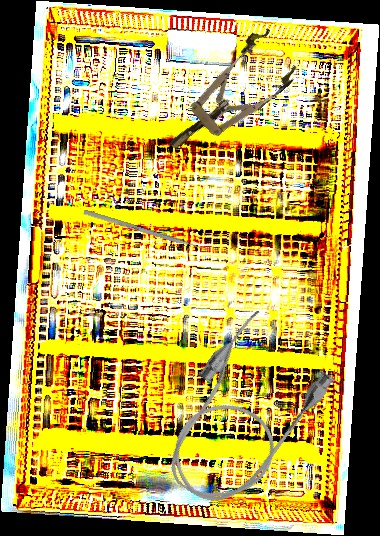Cannula: (140, 303, 343, 524)
Pusher: (83, 209, 214, 254)
Speculum: (150, 23, 306, 170)
